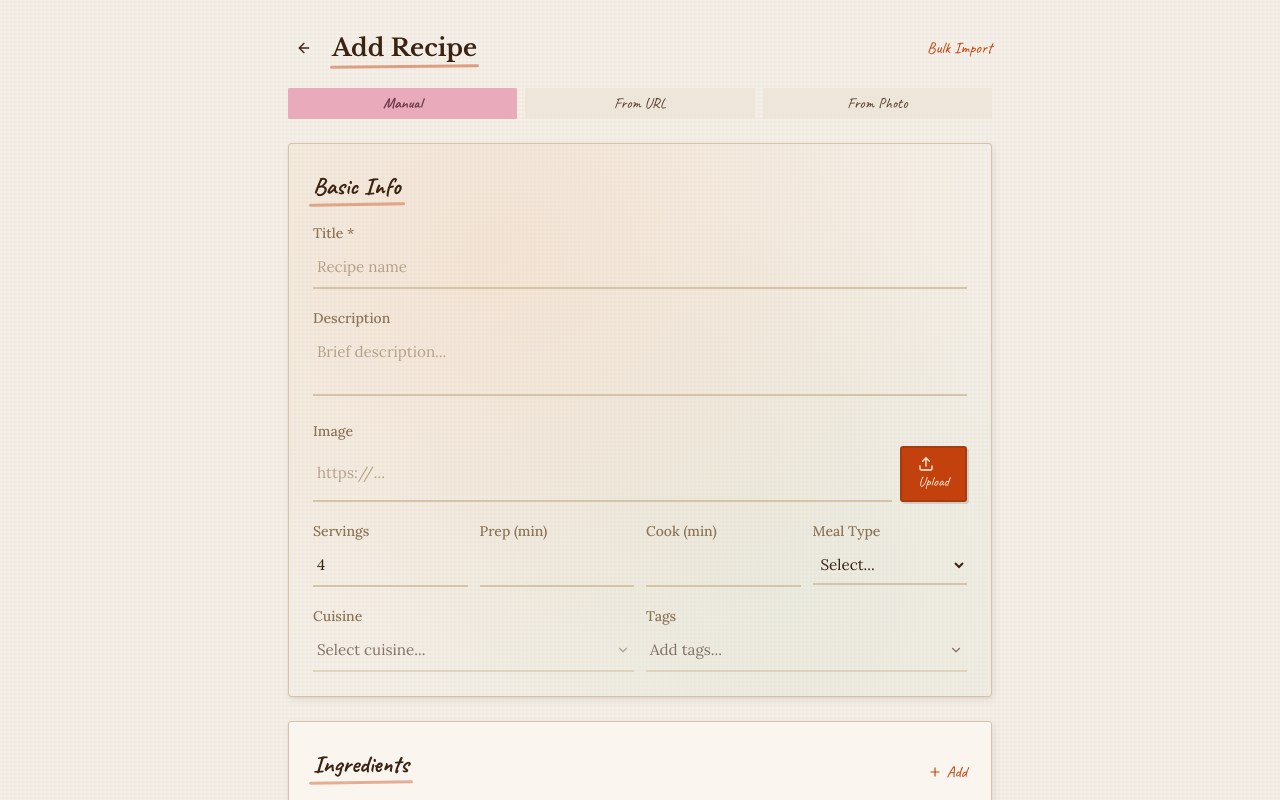
Test: Recipe Add/Import (New) › N2: photo import tab remains usable after a failure
This screenshot has width=1280, height=800.
Click the button "From Photo": (877, 103) top-left (763, 88), bottom-right (992, 119)
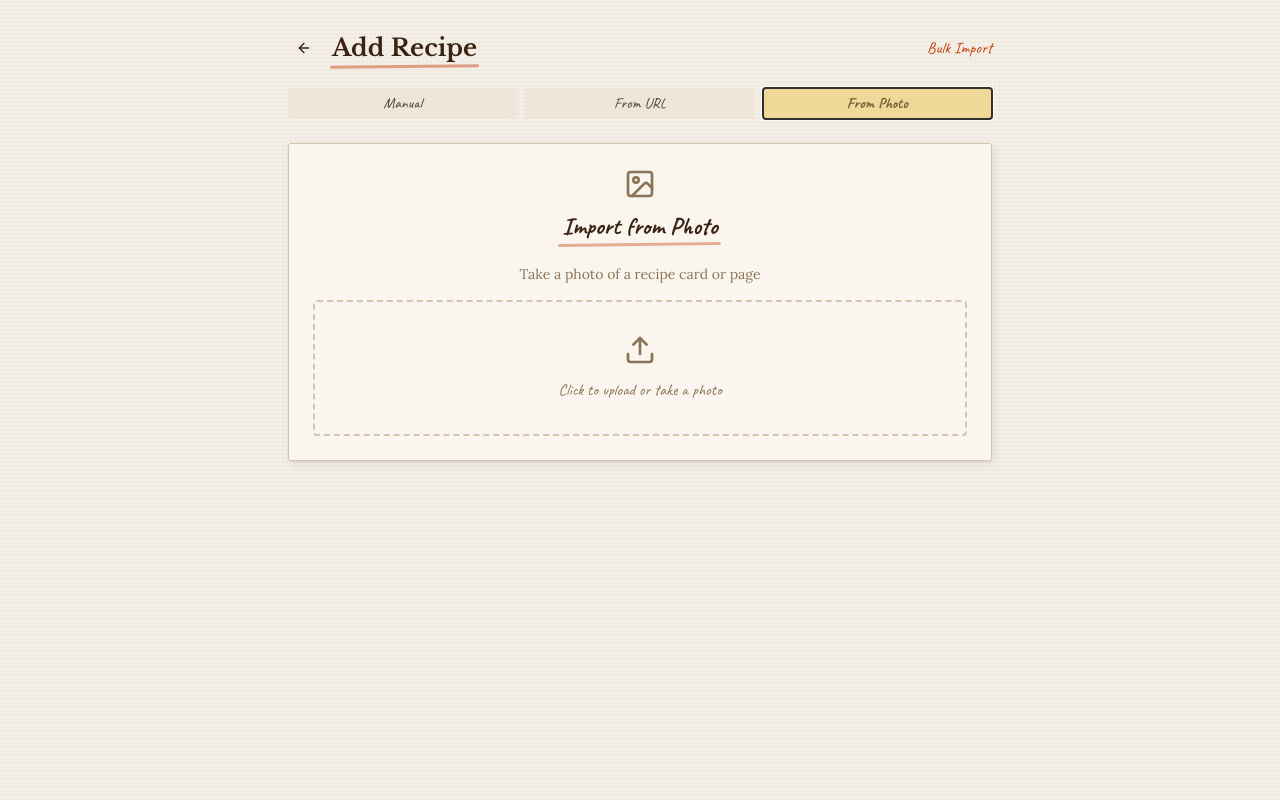
Expected: the text "Click to upload or take a photo" is shown, top-left (558, 378), bottom-right (722, 402)
